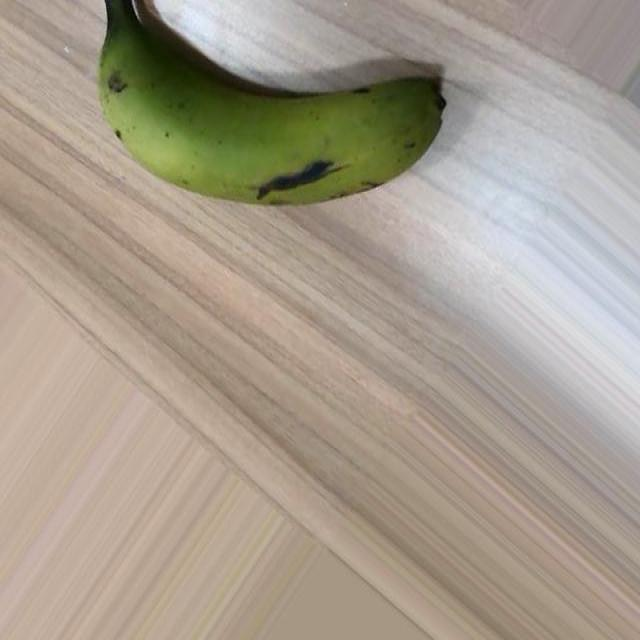Unripe: (94, 0, 449, 207)
